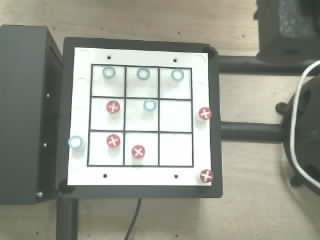blue circle: (68, 136, 83, 150), (103, 66, 116, 79), (137, 68, 150, 79), (144, 100, 156, 111), (171, 69, 183, 80)
board: (67, 48, 212, 186)
cells: (89, 132, 122, 165), (125, 133, 157, 165), (125, 99, 158, 130), (160, 134, 192, 165), (92, 65, 124, 96), (91, 98, 123, 129), (160, 68, 191, 99), (160, 100, 191, 131), (127, 67, 157, 97)
grid: (87, 64, 193, 167)
red cross: (132, 145, 145, 159), (106, 134, 120, 147), (200, 169, 213, 182), (106, 100, 119, 112), (199, 107, 211, 119)
